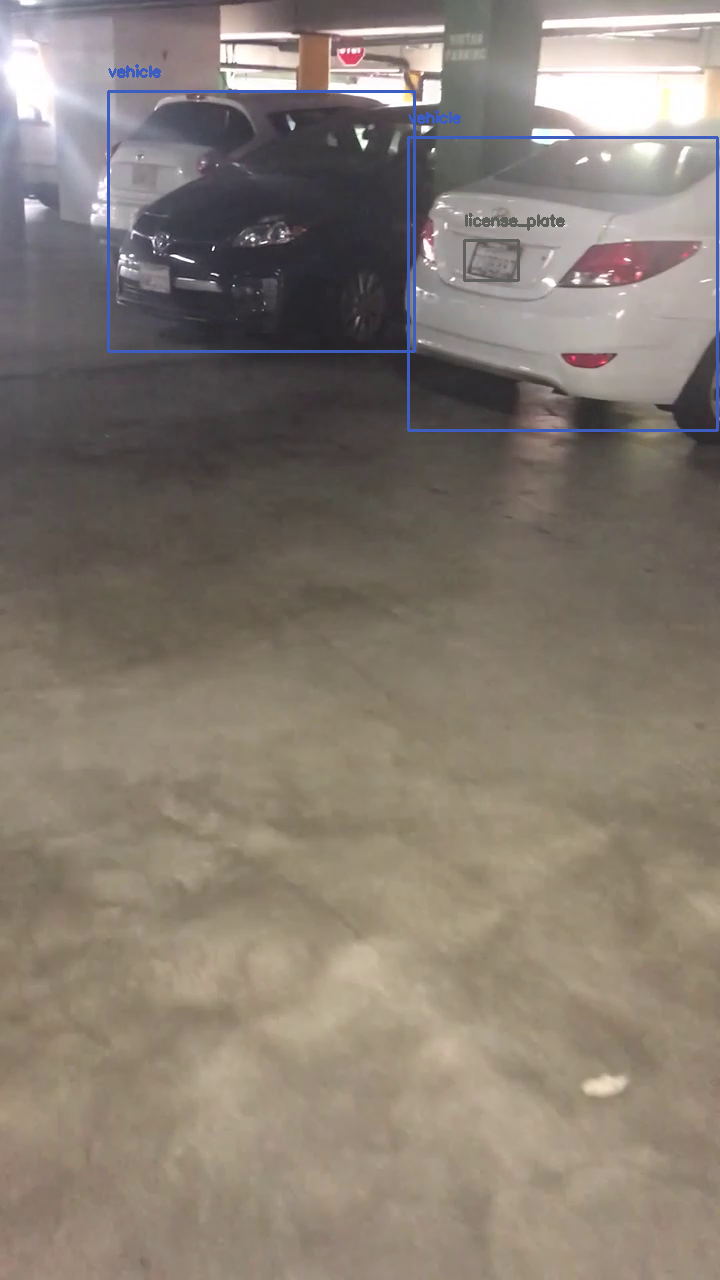license_plate: (464, 240, 518, 280)
vehicle: (408, 137, 717, 430), (108, 91, 414, 351)
